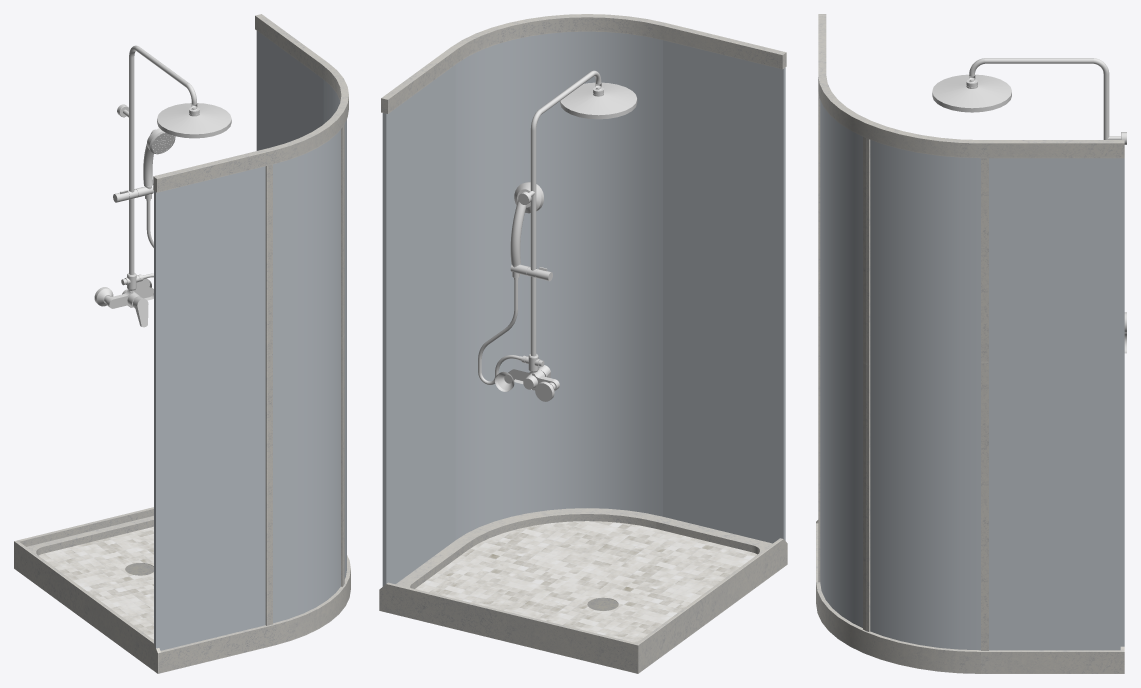
The model's file is shower_corner.glb.
3 views of the same model, side by side, from view 1: azimuth 30°, elevation 25°; view 2: azimuth 150°, elevation 25°; view 3: azimuth 270°, elevation 25° (orthographic). The views are drawn at different scales.
Visible parts, largest first — view 1: Geom3D_ (×8), Geom3D; view 2: Geom3D_ (×7), Geom3D; view 3: Geom3D_ (×7).
Part boxes in pixels (<box>): Geom3D_ (×8): <box>14,14,350,673</box>; Geom3D: <box>39,526,153,639</box>; Geom3D_ (×7): <box>379,14,787,673</box>; Geom3D: <box>415,521,757,642</box>; Geom3D_ (×7): <box>816,14,1124,673</box>.
Bounding box in the file's own units: 0.9653 × 1.87 × 0.9723.
4 materials, 3 textured.
